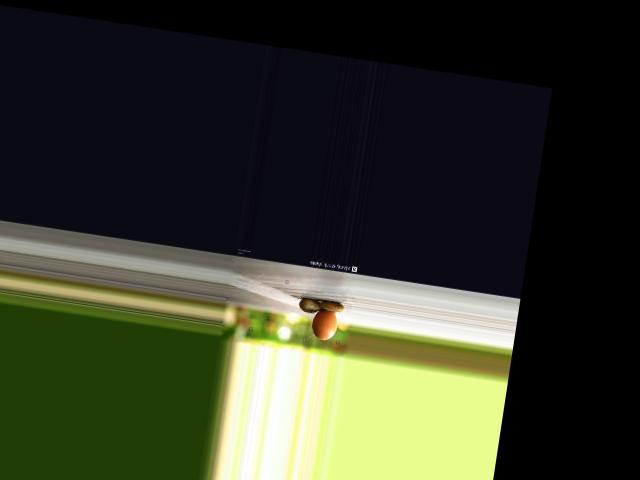egg: (309, 307, 339, 340)
